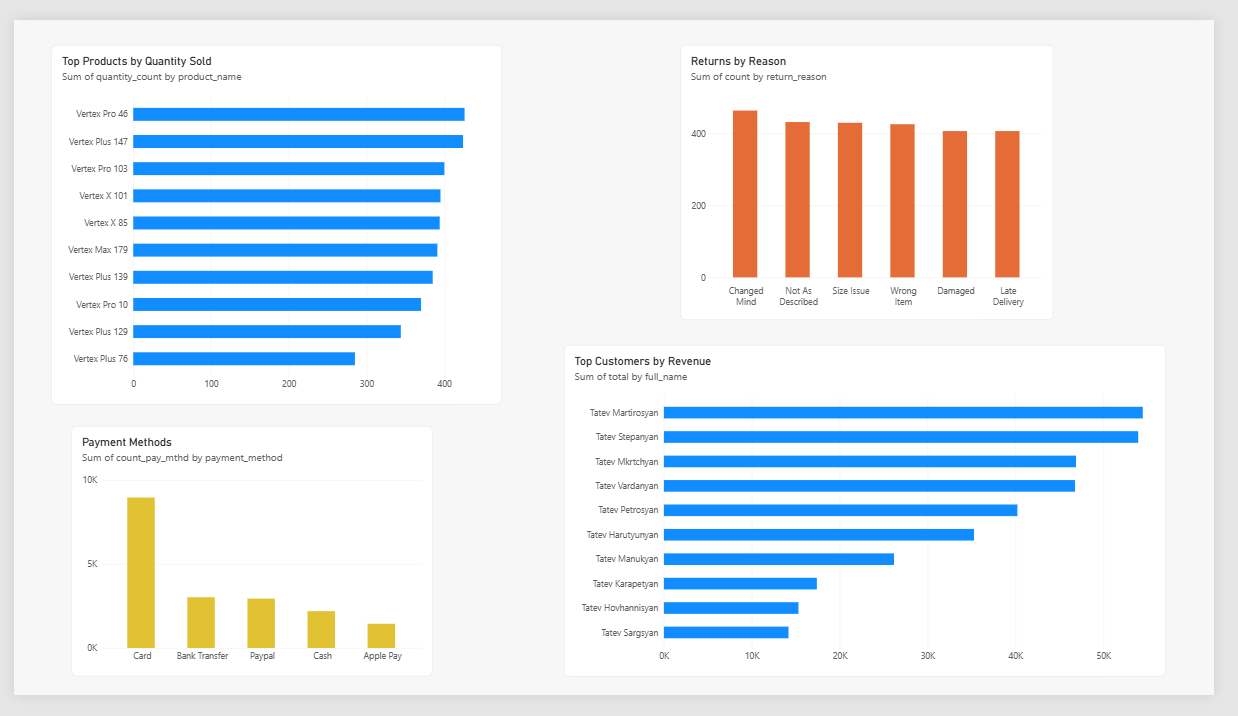

This screenshot's page, from the dashboard's own definition file:
{"tool":"powerbi","page":{"name":"Product & Customer Analysis","canvas":[1920,1080],"ordinal":1},"visuals":[{"type":"barChart","title":"Top Products by Quantity Sold","fields":{"Category":["public vw_most_ordered_products.product_name"],"Y":["Sum(public vw_most_ordered_products.quantity_count)"]},"box":[60,40,720,575],"z":1001},{"type":"lineStackedColumnComboChart","title":"Returns by Reason","fields":{"Category":["public vw_return_reason.return_reason"],"Y":["Sum(public vw_return_reason.count)"]},"box":[1065,40,596.7,440],"z":1003},{"type":"barChart","title":"Top Customers by Revenue","fields":{"Category":["public vw_customer_revenue.full_name"],"Y":["Sum(public vw_customer_revenue.total)"]},"box":[880,520,962.5,530],"z":1005},{"type":"lineStackedColumnComboChart","title":"Payment Methods","fields":{"Category":["public vw_payment_method.payment_method"],"Y":["Sum(public vw_payment_method.count_pay_mthd)"]},"box":[91.1,650,577.5,400],"z":1006}]}

Visuals, with their boxes in screenshot pixels (x1, y1, x2, y2), scaled from the page's 1920x1080 canvas onto the 1238x716 screenshot:
"Top Products by Quantity Sold" barChart: l=39, t=27, r=503, b=408
"Returns by Reason" lineStackedColumnComboChart: l=687, t=27, r=1071, b=318
"Top Customers by Revenue" barChart: l=567, t=345, r=1188, b=696
"Payment Methods" lineStackedColumnComboChart: l=59, t=431, r=431, b=696
